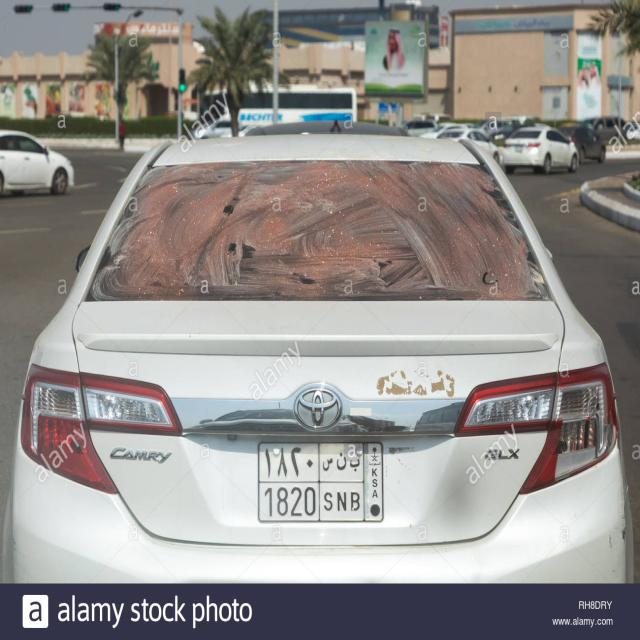license_plate: (256, 439, 386, 525)
